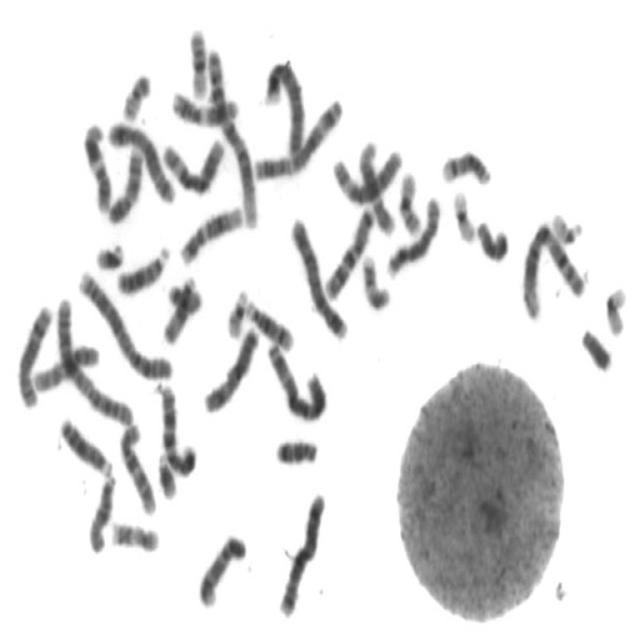A1: (202, 41, 260, 232), (518, 214, 586, 324)
A2: (73, 263, 175, 382), (52, 289, 136, 429)
A3: (248, 90, 345, 182), (263, 334, 329, 424)
B4: (287, 210, 349, 342), (260, 51, 308, 160)
B5: (274, 484, 328, 620), (101, 113, 178, 206)
C10: (115, 415, 158, 518), (28, 336, 102, 395)
C11: (79, 115, 113, 215), (167, 83, 240, 128)
C12: (175, 197, 245, 267), (354, 134, 397, 237)
C6: (329, 141, 405, 206), (158, 129, 226, 197)
C7: (321, 199, 377, 302), (154, 376, 198, 479)
C8: (382, 188, 442, 280), (13, 297, 54, 409)
C9: (194, 526, 248, 610), (103, 140, 146, 225)
D13: (55, 410, 113, 480), (111, 237, 170, 298)
D14: (241, 293, 296, 352), (437, 142, 493, 188)
D15: (158, 268, 198, 347), (84, 468, 118, 556)
E16: (394, 163, 424, 237), (184, 19, 210, 101)
E17: (106, 513, 161, 555), (358, 248, 392, 312)
E18: (472, 212, 512, 264), (271, 431, 320, 469)
F19: (448, 183, 478, 246), (601, 279, 629, 338)
F20: (117, 65, 153, 123), (164, 277, 204, 315)
G21: (153, 446, 179, 501), (91, 235, 126, 272)
G22: (222, 281, 250, 341), (547, 203, 585, 245)
X: (198, 319, 261, 416)
Y: (577, 320, 614, 373)
